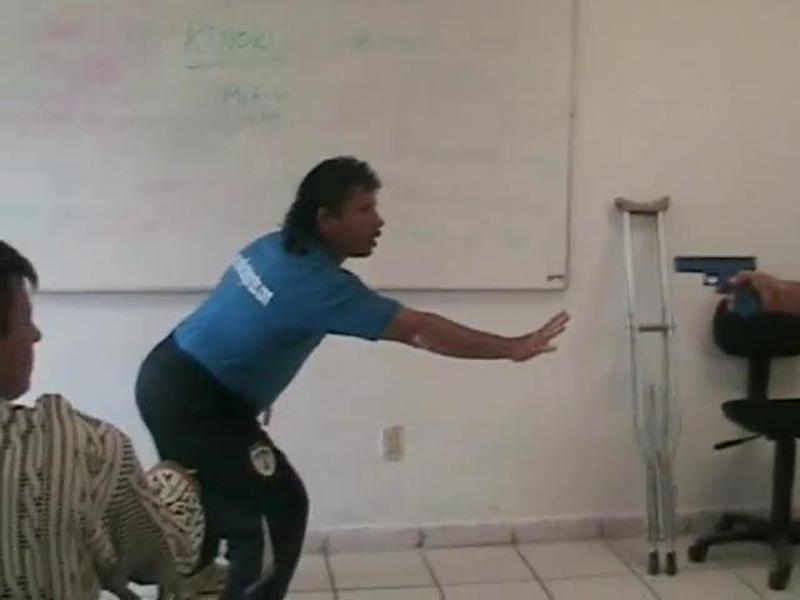Pistola: (667, 239, 777, 331)
